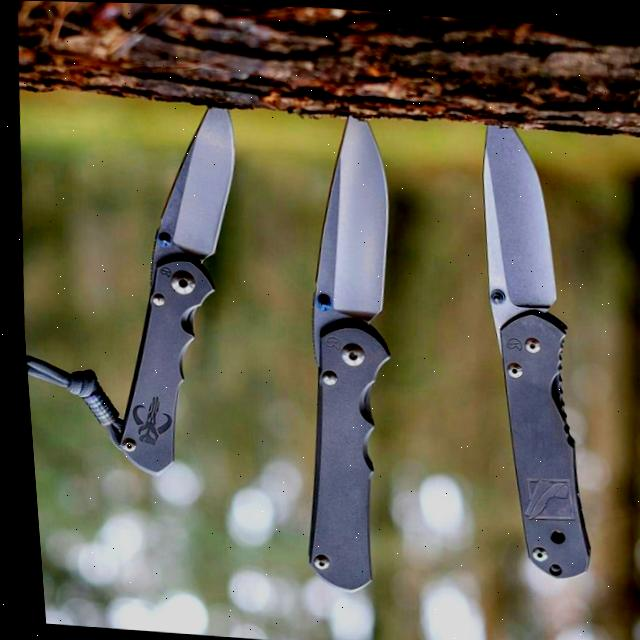pocket-knife: (262, 98, 421, 603), (449, 115, 614, 581), (85, 88, 264, 487)
